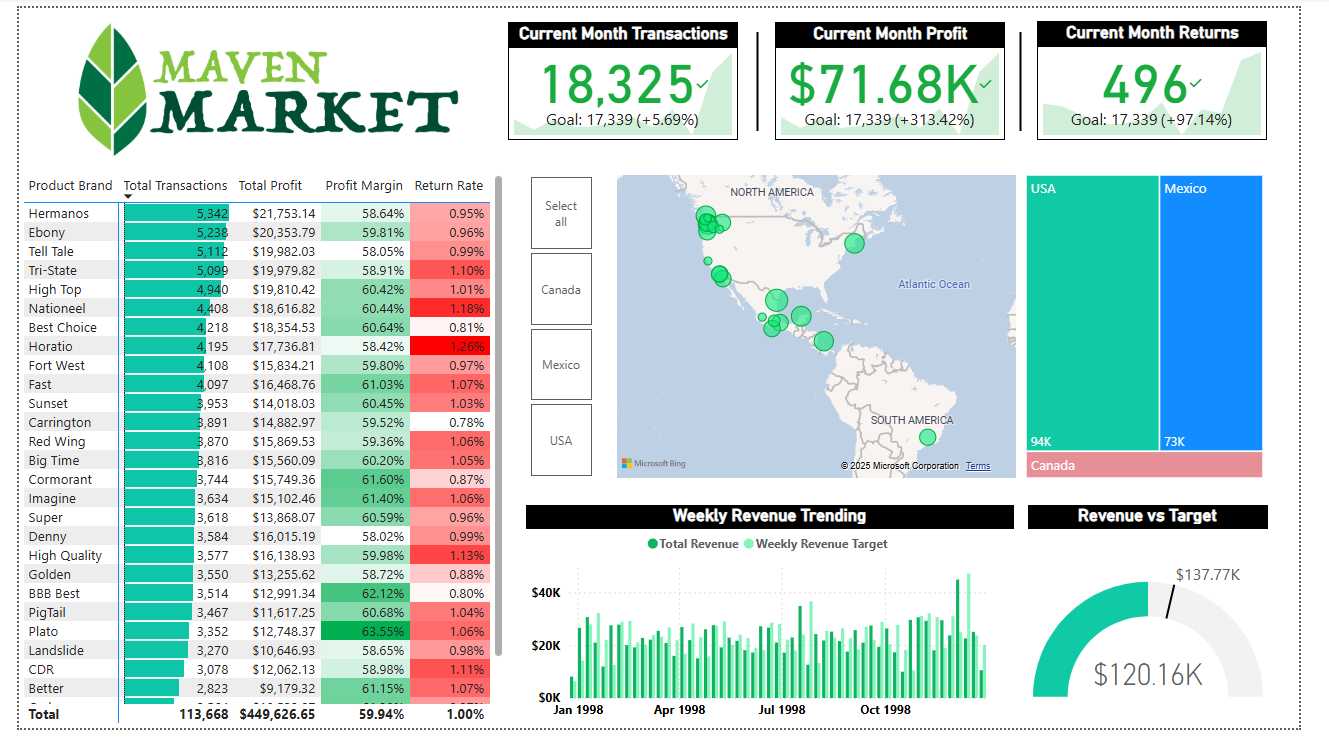

What the dashboard file says about the page in this screenshot:
{"tool":"powerbi","page":{"name":"Topline Performance","canvas":[1280,720],"ordinal":0},"visuals":[{"type":"image","box":[9.9,0,476.4,162.1],"z":0},{"type":"kpi","title":"Current Month Transactions","fields":{"TrendLine":["Calendar.Start of Month"],"Goal":["Measures Table.Last Month Transactions"],"Indicator":["Measures Table.Total Transactions"]},"box":[489,13.9,230,117.7],"z":0,"group":"g1"},{"type":"map","title":"Country Map","fields":{"Size":["Measures Table.Total Transactions"],"Category":["Stores.store_city"]},"box":[593,162.1,409.7,313.4],"z":0,"group":"g2"},{"type":"kpi","title":"Current Month Profit","fields":{"TrendLine":["Calendar.Start of Month"],"Goal":["Measures Table.Last Month Transactions"],"Indicator":["Measures Table.Total Profit"]},"box":[756,13.9,230,117.7],"z":1000,"group":"g1"},{"type":"pivotTable","title":"Top 30 Products","fields":{"Values":["Measures Table.Total Transactions","Measures Table.Total Profit","Measures Table.Profit Margin","Measures Table.Return Rate"],"Rows":["Products.product_brand"]},"box":[0,162.1,489,557.9],"z":1000},{"type":"slicer","title":"Country Selector","fields":{"Values":["Stores.store_country"]},"box":[486.3,162.2,110.9,313.2],"z":1000,"group":"g2"},{"type":"group","id":"g1","title":"KPI","box":[489,12.5,759.4,119.1],"z":2000},{"type":"kpi","title":"Current Month Returns","fields":{"TrendLine":["Calendar.Start of Month"],"Goal":["Measures Table.Last Month Transactions"],"Indicator":["Measures Table.Total Returns"]},"box":[1018.4,12.5,230,119.1],"z":2000,"group":"g1"},{"type":"treemap","fields":{"Values":["Measures Table.Total Transactions"],"Group":["Stores.Store Country","Stores.store_state","Stores.store_city"]},"box":[1002.7,162.1,246.6,313.4],"z":2000,"group":"g2"},{"type":"shape","box":[615.2,23.1,247,99.3],"z":3000,"group":"g1"},{"type":"clusteredColumnChart","title":"Weekly Revenue Trending","fields":{"Y":["Measures Table.Total Revenue","Measures Table.Weekly Revenue Target"],"Category":["Calendar.Start of Week (Starting Sunday)"]},"box":[506.9,497,488.1,223],"z":3000},{"type":"shape","box":[878.4,23.1,247,99.3],"z":4000,"group":"g1"},{"type":"group","id":"g2","title":"Map","box":[486.3,162.1,763,313.4],"z":4000},{"type":"gauge","title":"Revenue vs Target","fields":{"Y":["Measures Table.Total Revenue"],"TargetValue":["Measures Table.Weekly Revenue Target"]},"box":[1009.3,497,240,223],"z":5000}]}

Visuals, with their boxes in screenshot pixels (x1, y1, x2, y2), scaled from the page's 1280x720 canvas onto the 1329x738 screenshot:
image: (10, 0, 505, 166)
"Current Month Transactions" kpi: (508, 14, 747, 135)
"Country Map" map: (616, 166, 1041, 487)
"Current Month Profit" kpi: (785, 14, 1024, 135)
"Top 30 Products" pivotTable: (0, 166, 508, 737)
"Country Selector" slicer: (505, 166, 620, 487)
"KPI" group: (508, 13, 1296, 135)
"Current Month Returns" kpi: (1057, 13, 1296, 135)
treemap - Measures Table.Total Transactions x Stores.Store Country: (1041, 166, 1297, 487)
shape: (639, 24, 895, 125)
"Weekly Revenue Trending" clusteredColumnChart: (526, 509, 1033, 737)
shape: (912, 24, 1168, 125)
"Map" group: (505, 166, 1297, 487)
"Revenue vs Target" gauge: (1048, 509, 1297, 737)
